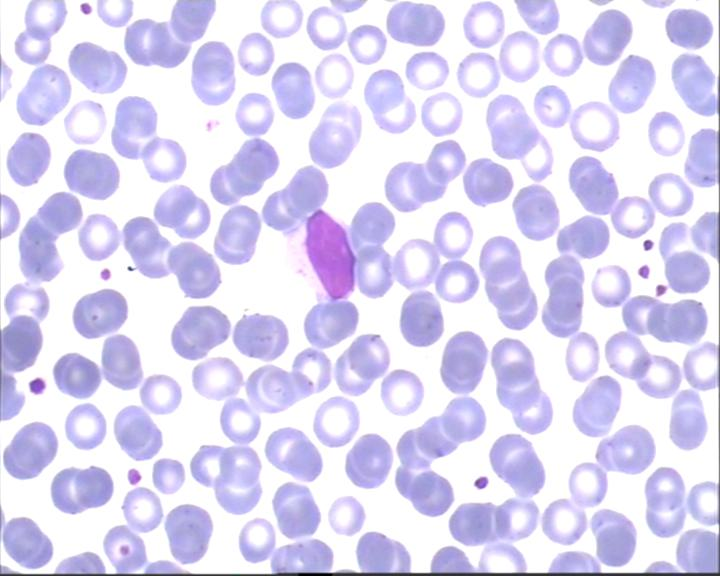mono: (279, 200, 365, 311)
